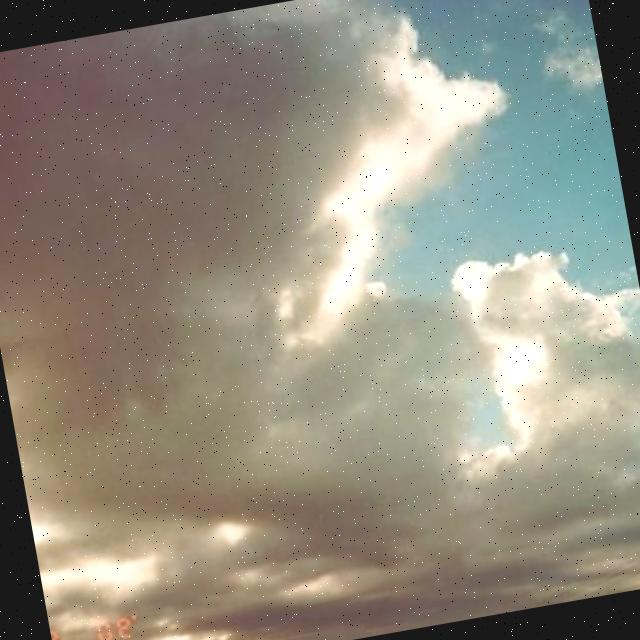St: (1, 1, 640, 538)
